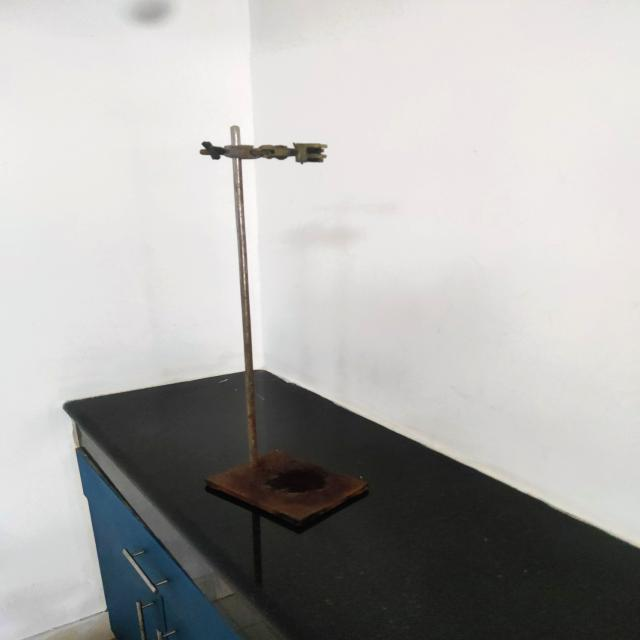Burette_Stands: (184, 109, 383, 534)
